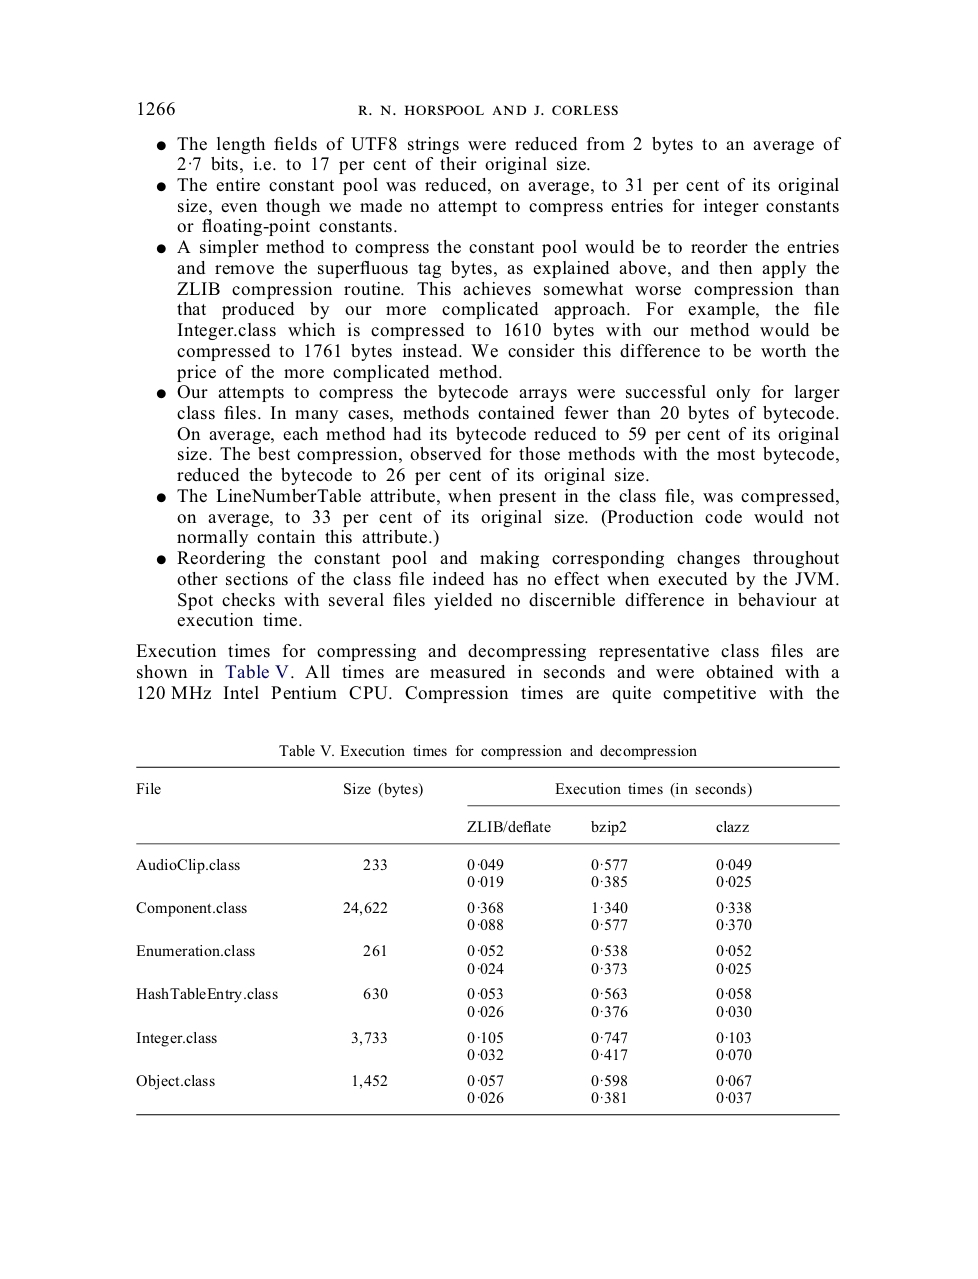Table: (136, 766, 839, 1115)
